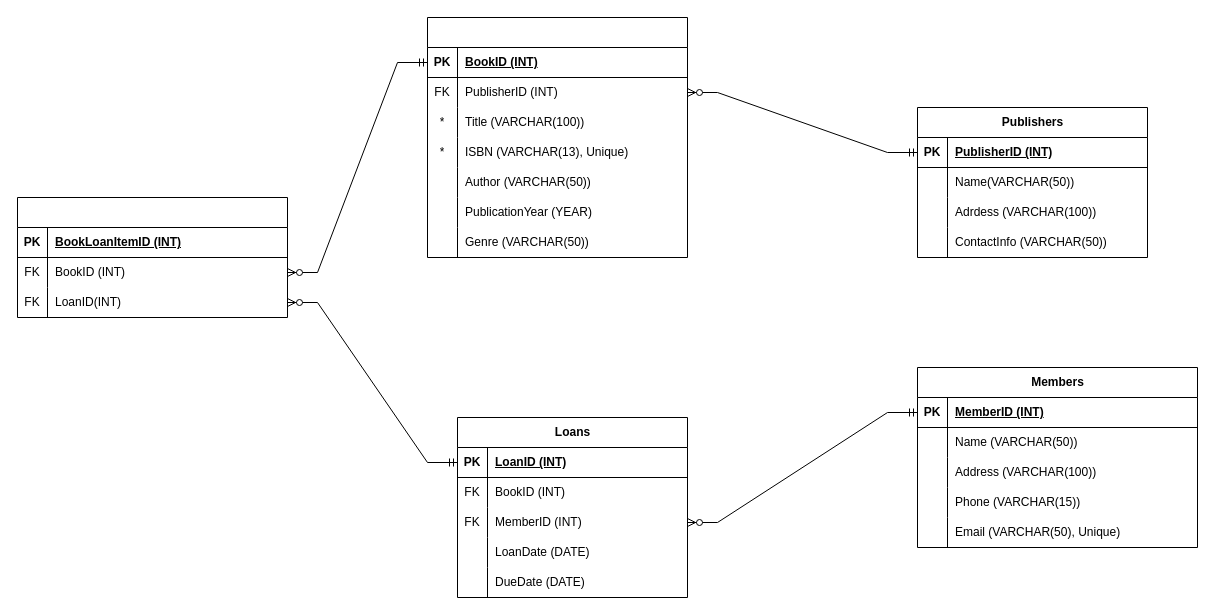
The diagram is 1215 pixels wide and 615 high, and some of its shapes have lost their labels. Here are the shapes that lost their labels. From the top down, the box of each, then its label:
(426, 16, 688, 258): Books
(16, 196, 288, 318): BooksLoanItem
